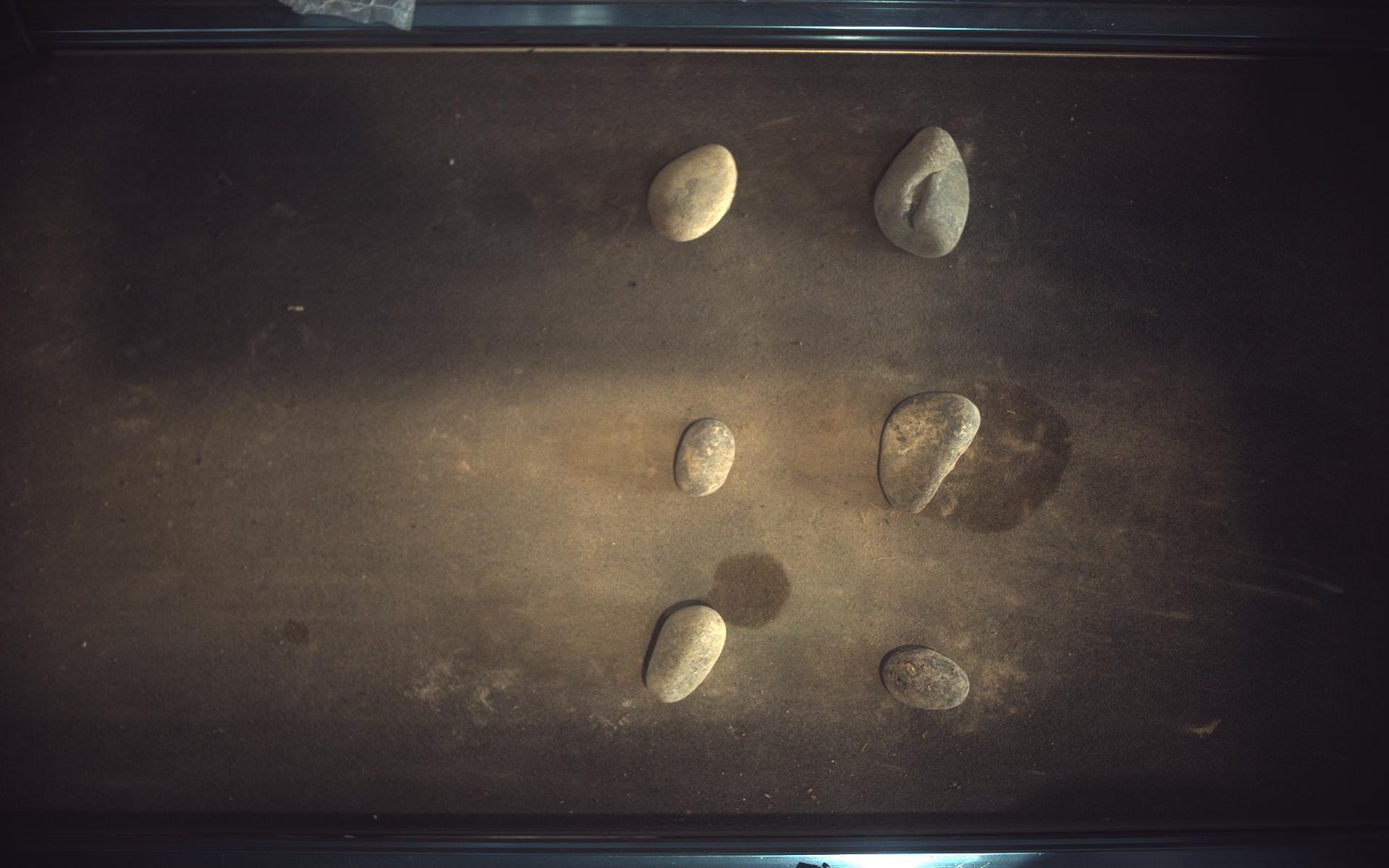stone: (876, 125, 972, 258), (880, 393, 983, 514), (649, 143, 739, 241), (647, 607, 728, 704), (883, 647, 972, 711), (675, 418, 736, 496)
